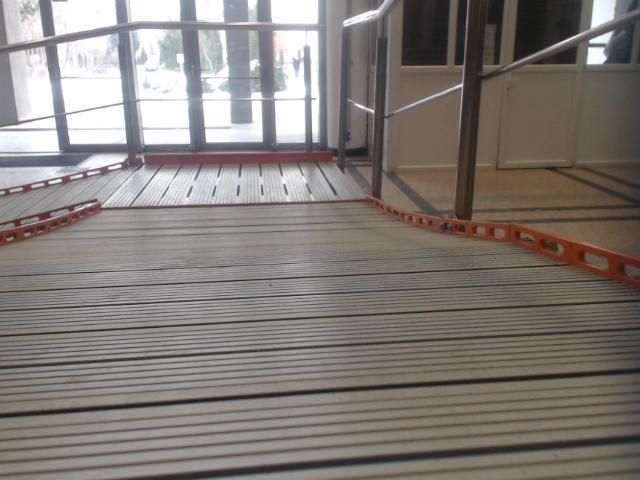rampDown: (0, 163, 639, 479)
ramps-railing: (339, 0, 639, 219), (0, 22, 323, 52), (33, 102, 123, 120), (343, 0, 399, 27), (304, 45, 310, 151), (193, 98, 303, 101), (132, 99, 181, 102), (18, 120, 30, 123)
